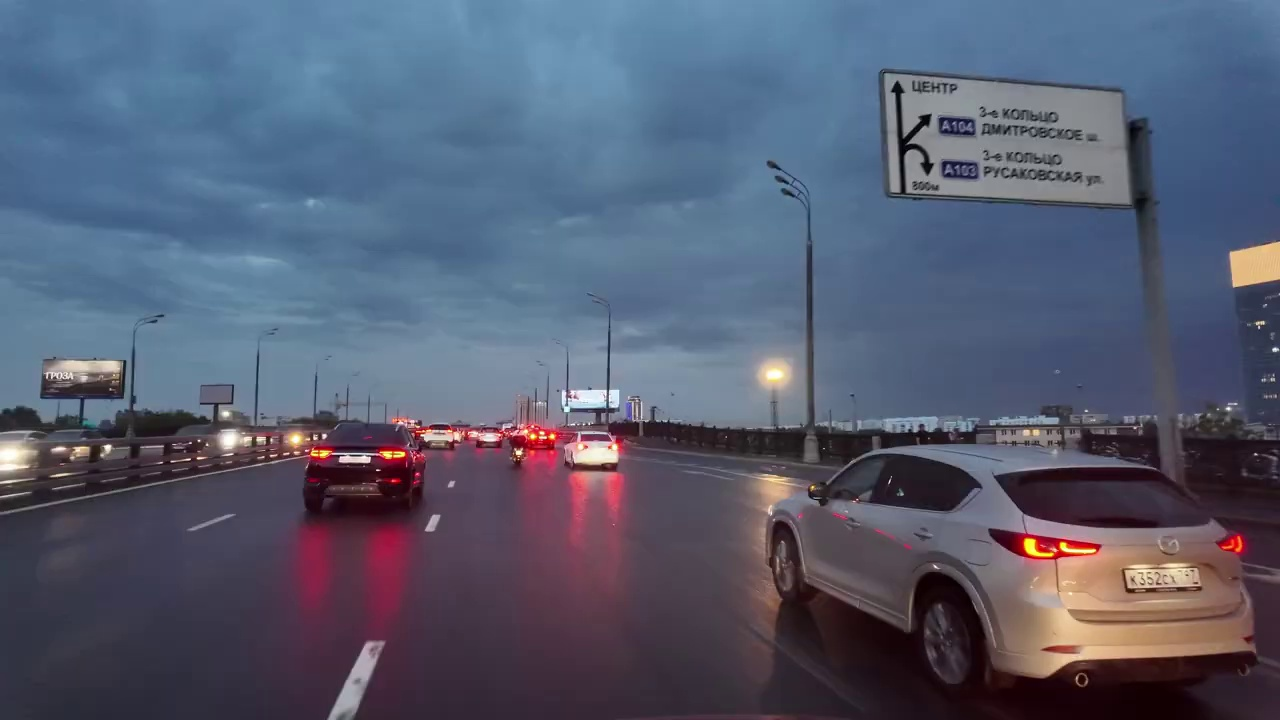acesa: (758, 359, 791, 389)
apagada: (762, 159, 799, 204), (144, 311, 168, 331)
